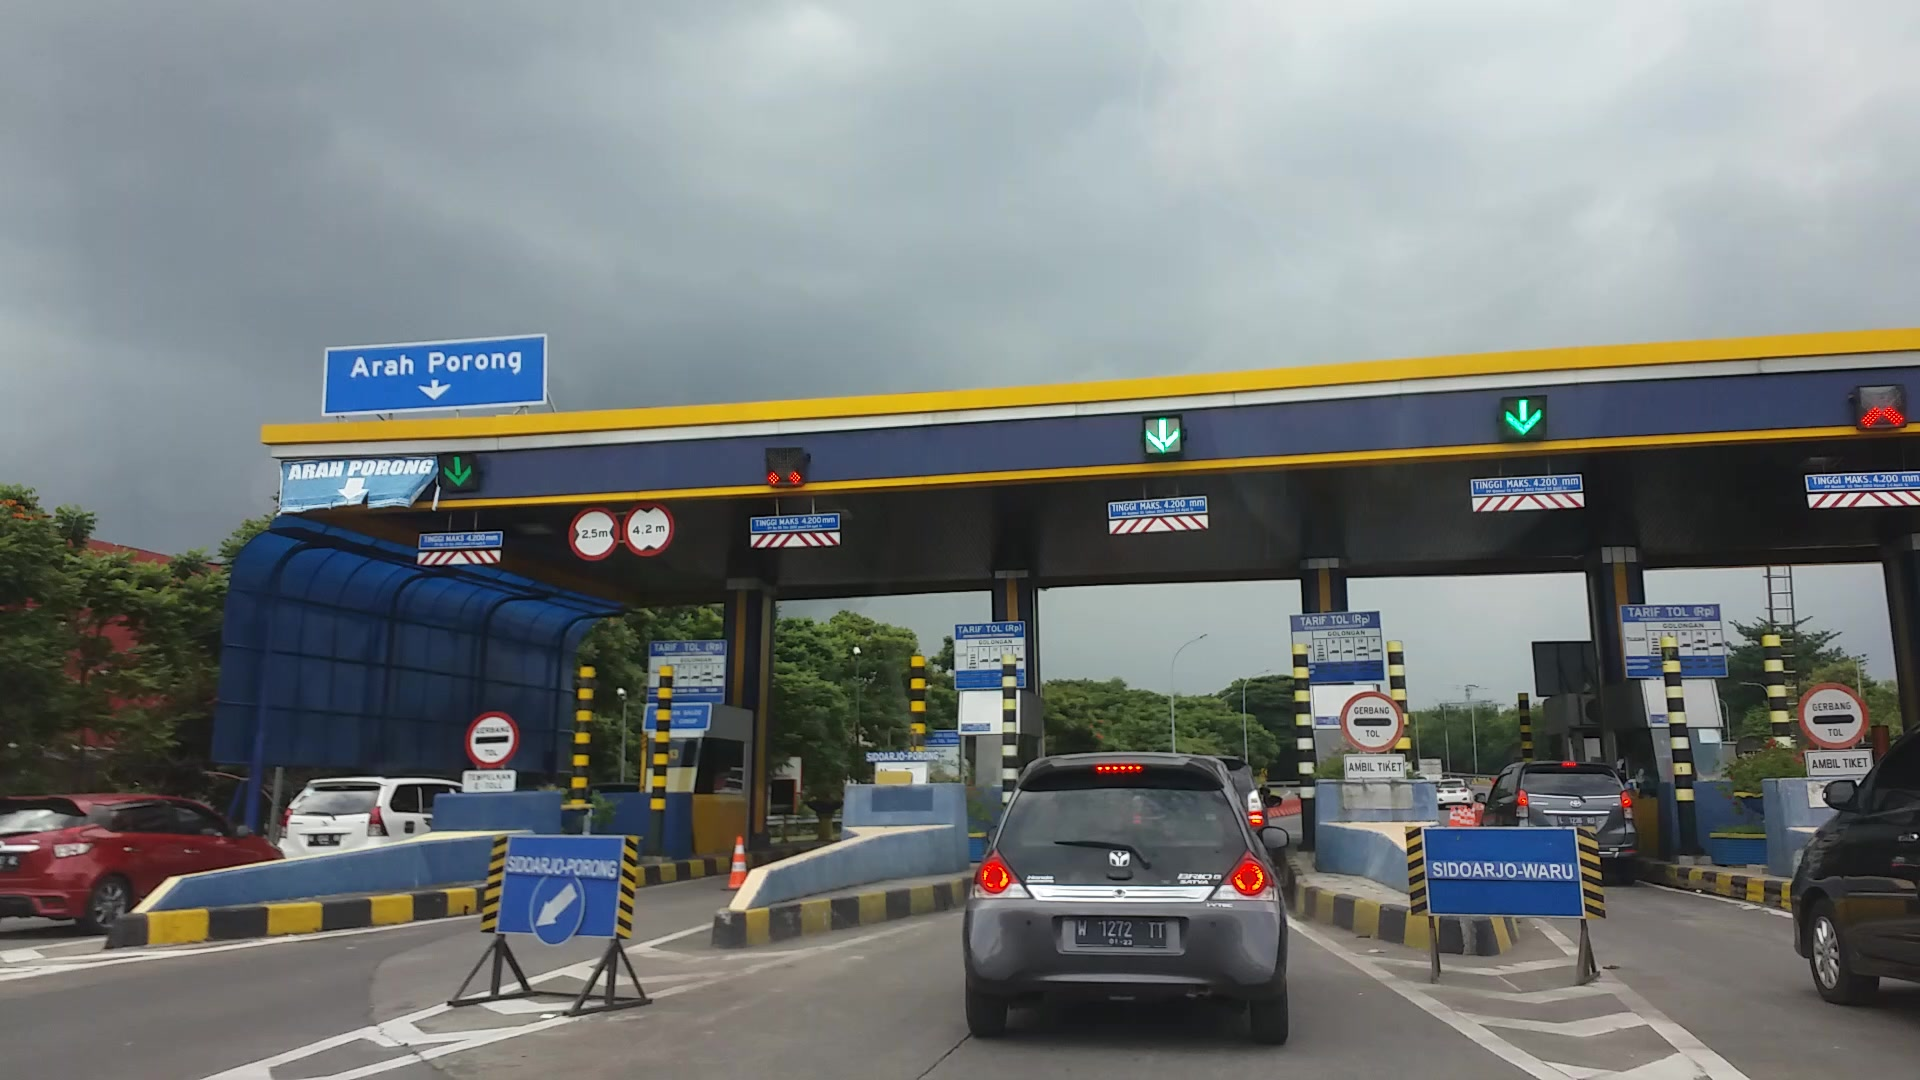plate_positive: (1075, 916, 1166, 949)
